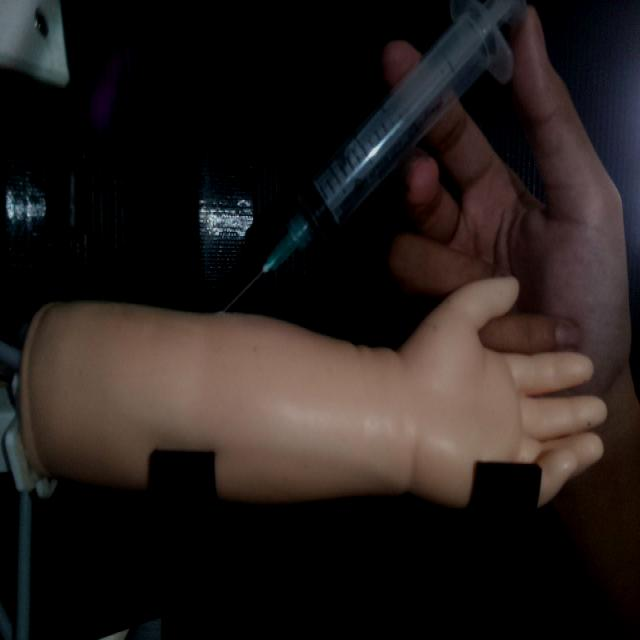Above 30 degrees: (216, 0, 526, 317)
